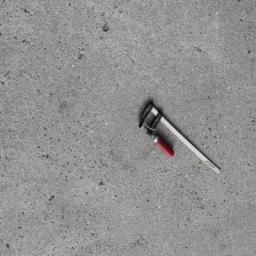FOD: (133, 100, 227, 182)
